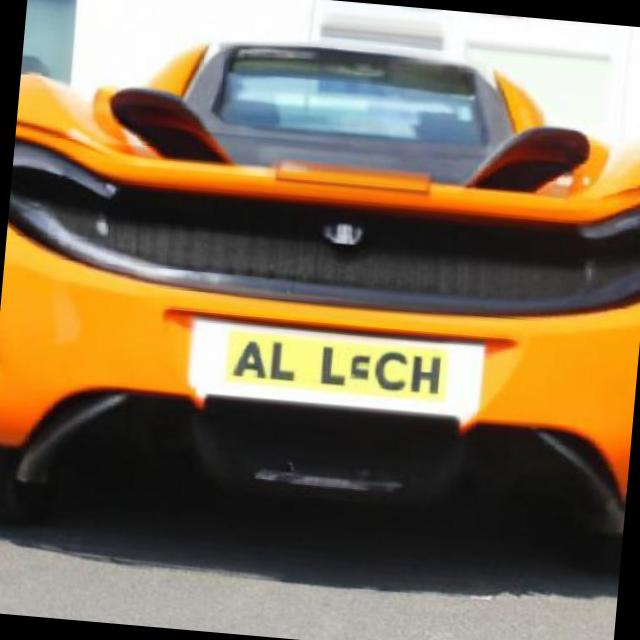LicensePlate: (188, 317, 485, 423)
